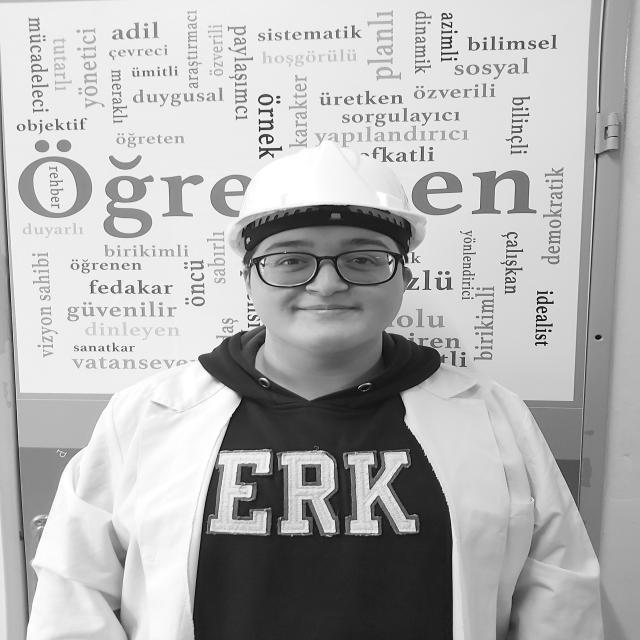safety_helmet: (236, 153, 426, 248)
